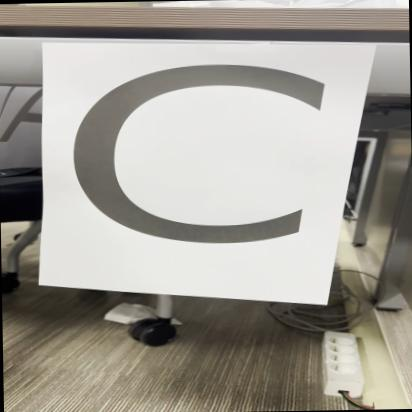seat: (51, 40, 353, 298)
